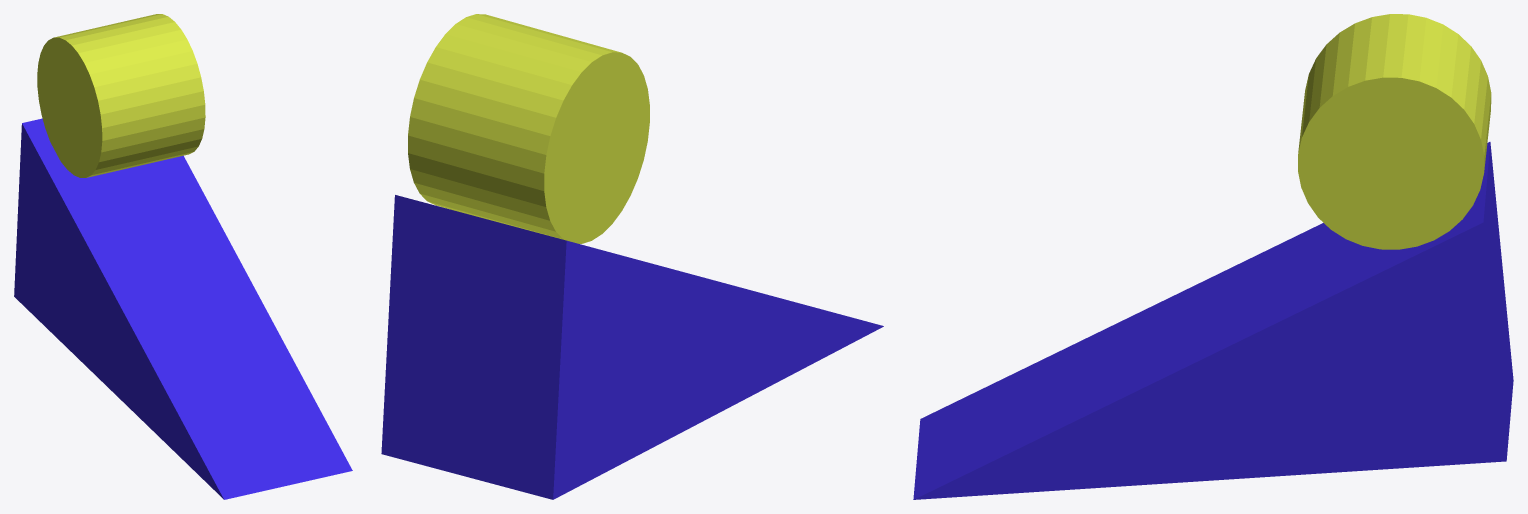
File: first.glb
The picture shows the model from 3 angles, left to right: view 1: azimuth 30°, elevation 25°; view 2: azimuth 150°, elevation 25°; view 3: azimuth 270°, elevation 25°; orthographic projection. The views are drawn at different scales.
Visible parts, largest first — view 1: Cube, Cylinder; view 2: Cube, Cylinder; view 3: Cube, Cylinder.
Boxes of the visible parts, left/top/right/bottom form: Cube: left=14, top=118, right=352, bottom=499; Cylinder: left=37, top=14, right=205, bottom=177; Cube: left=381, top=195, right=883, bottom=499; Cylinder: left=408, top=14, right=649, bottom=243; Cube: left=913, top=142, right=1513, bottom=499; Cylinder: left=1298, top=14, right=1491, bottom=249.
Bounding box in the file's own units: 2.22 × 4.84 × 6.23.
